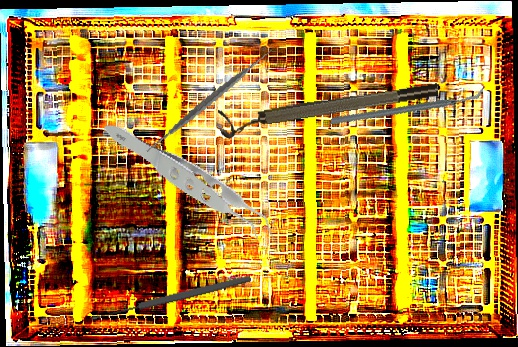Chopper: (330, 53, 484, 159)
Fixation Ring: (217, 79, 441, 140)
Spatula Surgical: (139, 29, 280, 173)
Surgical Spoon: (90, 273, 252, 323)
Tissue Forceps: (102, 80, 281, 294)
